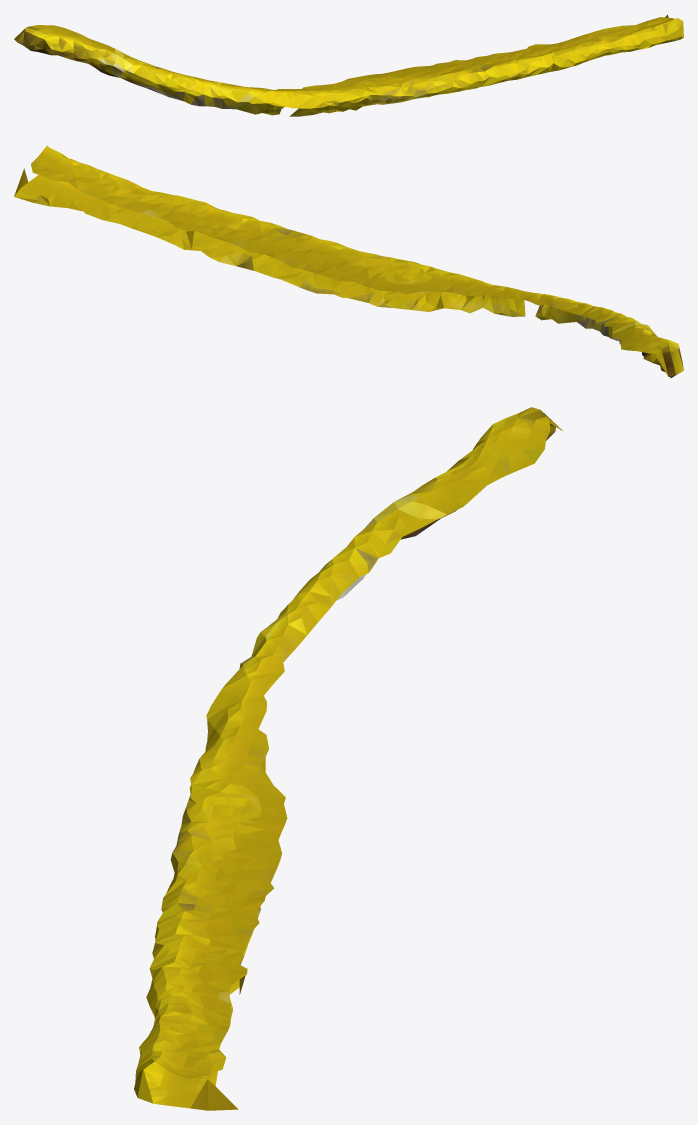
The picture shows the model from 3 angles, top to bottom: view 1: azimuth 30°, elevation 25°; view 2: azimuth 150°, elevation 25°; view 3: azimuth 270°, elevation 25°; orthographic projection. The views are drawn at different scales.
Visible parts, largest first — view 1: link2; view 2: link2; view 3: link2.
Boxes of the visible parts, left/top/right/bottom form: link2: left=14, top=14, right=683, bottom=116; link2: left=14, top=146, right=683, bottom=378; link2: left=134, top=407, right=563, bottom=1110.
Size of the model in its own units: 0.1113 by 0.0167 by 0.0364.
1 material, 1 textured.
